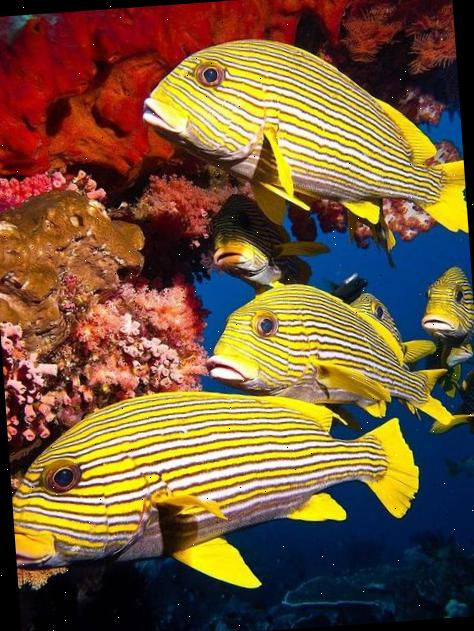fish: (6, 373, 424, 603), (139, 23, 469, 257), (203, 274, 456, 440), (202, 185, 330, 293), (350, 286, 440, 369), (419, 264, 474, 348)
